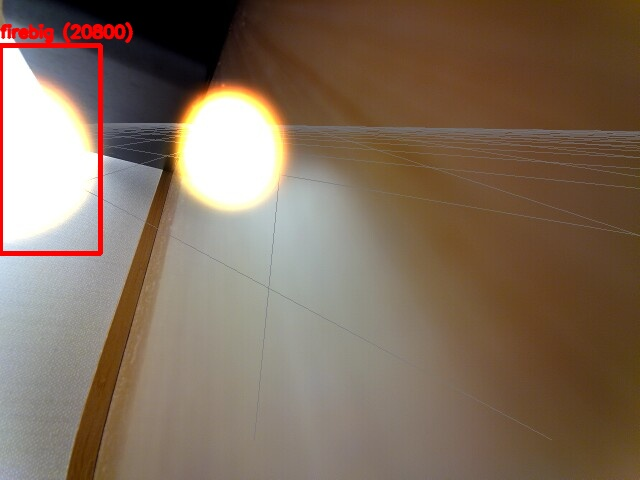firebig: (0, 45, 100, 253)
